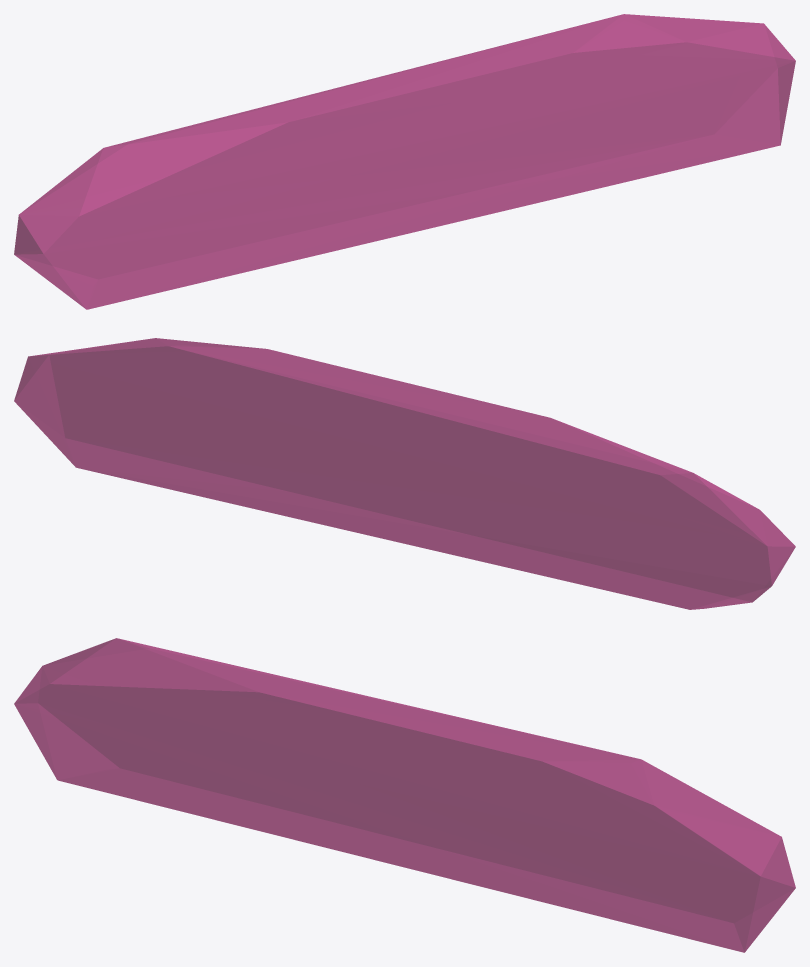
The picture shows the model from 3 angles, top to bottom: view 1: azimuth 30°, elevation 25°; view 2: azimuth 150°, elevation 25°; view 3: azimuth 330°, elevation 25°; orthographic projection.
Parts seen in each view (by area): view 1: Shape_IndexedFaceSet.176_Shape_IndexedFaceSet.605; view 2: Shape_IndexedFaceSet.176_Shape_IndexedFaceSet.605; view 3: Shape_IndexedFaceSet.176_Shape_IndexedFaceSet.605.
Boxes of the visible parts, box(x1,y1,x2,y2) form: Shape_IndexedFaceSet.176_Shape_IndexedFaceSet.605: box(14, 14, 795, 309); Shape_IndexedFaceSet.176_Shape_IndexedFaceSet.605: box(14, 338, 795, 609); Shape_IndexedFaceSet.176_Shape_IndexedFaceSet.605: box(14, 638, 795, 952).
Size of the model in its own units: 0.3362 by 0.0605 by 0.0212.
